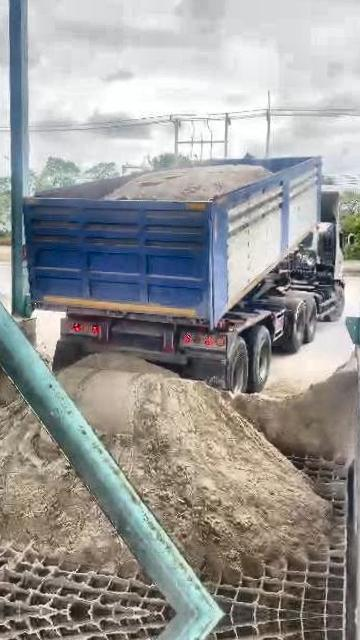sand: (59, 356, 327, 581), (0, 398, 134, 567), (233, 365, 359, 463), (105, 165, 270, 200), (0, 343, 16, 414)
